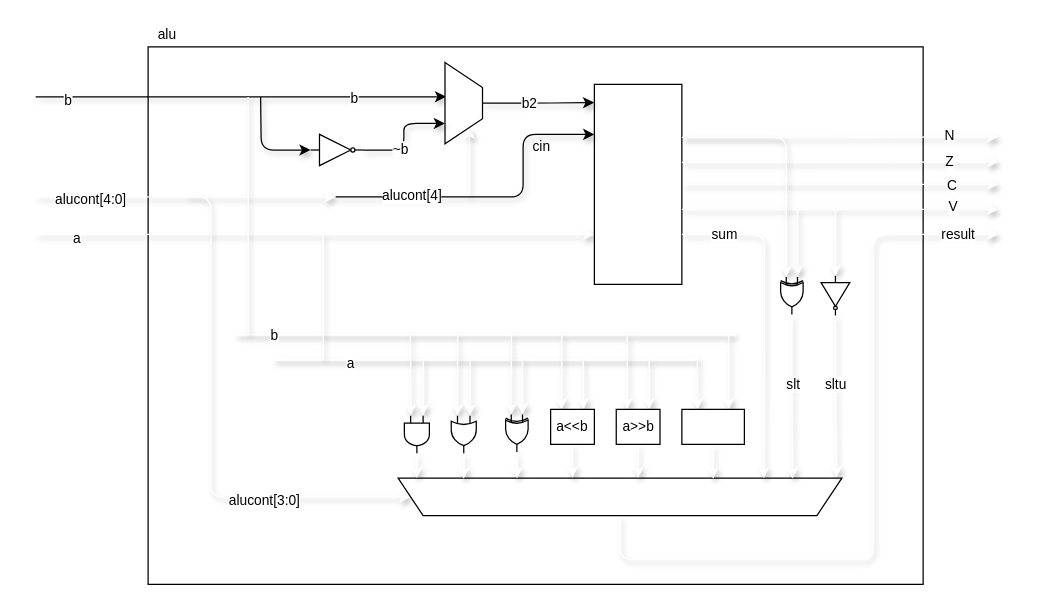
This 1038x606 diagram has some shape labels left out. Here are the shapes that lost their labels. From the top down, the centre of each, then its label:
At [637,183]: "adder_32bit".
At [712,426]: "signed(a) >>b[4:0]".
